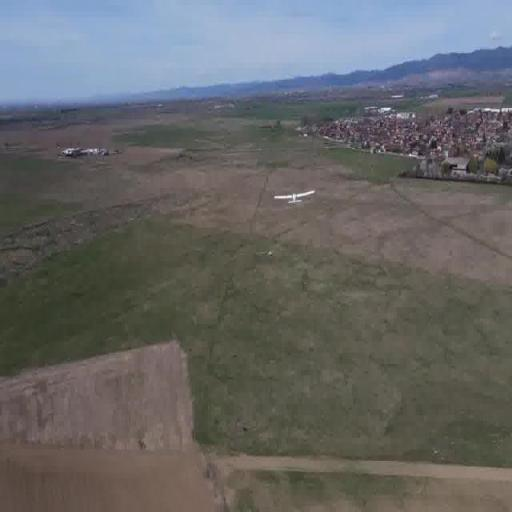uav: (272, 186, 320, 214)
